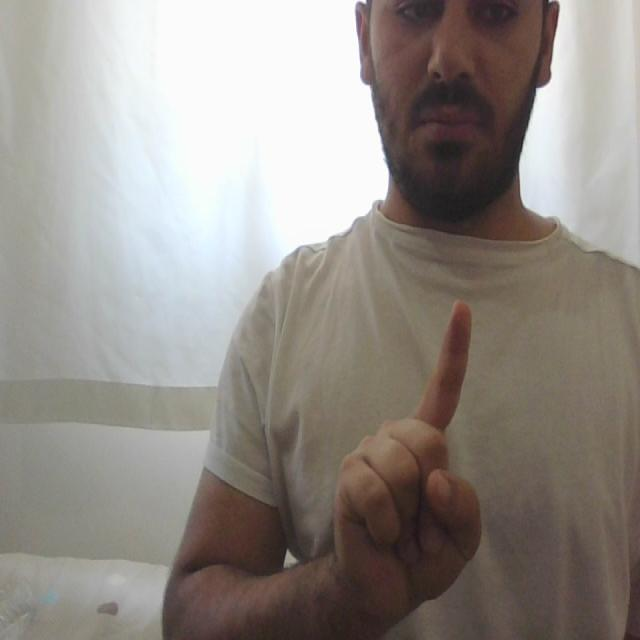Hayir: (326, 285, 496, 638)
